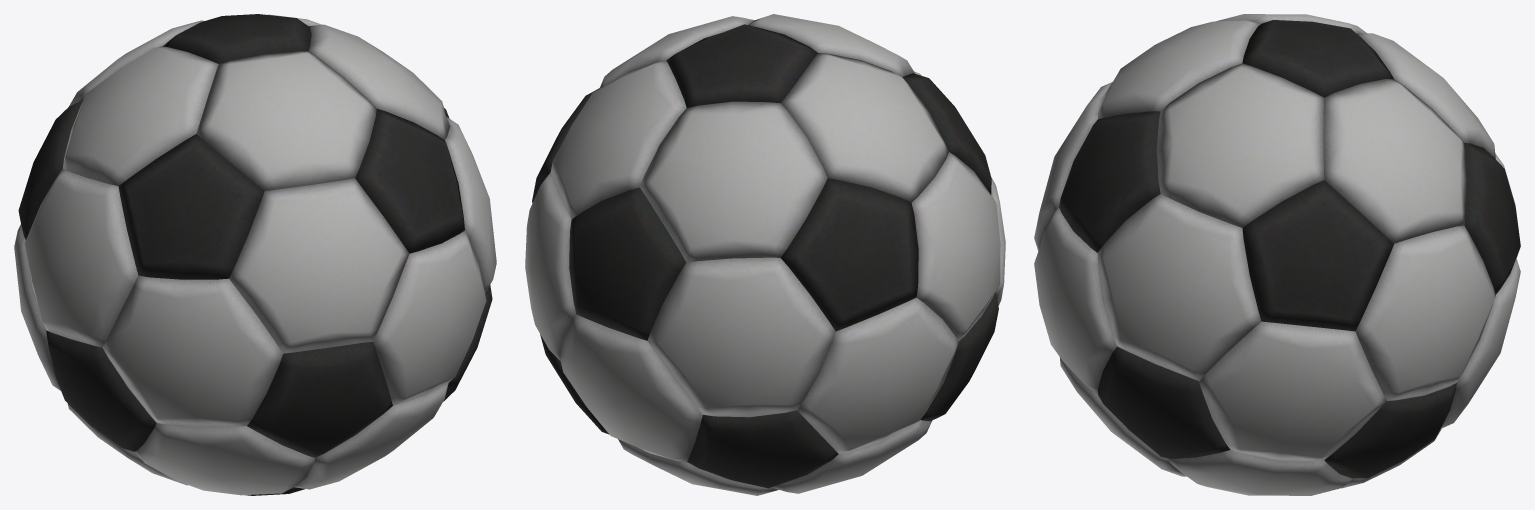
The model's file is ball.obj.
3 views of the same model, side by side, from view 1: azimuth 30°, elevation 25°; view 2: azimuth 150°, elevation 25°; view 3: azimuth 270°, elevation 25° (orthographic).
Size of the model in its own units: 1.99 by 2 by 2.
1 material, 1 textured.
